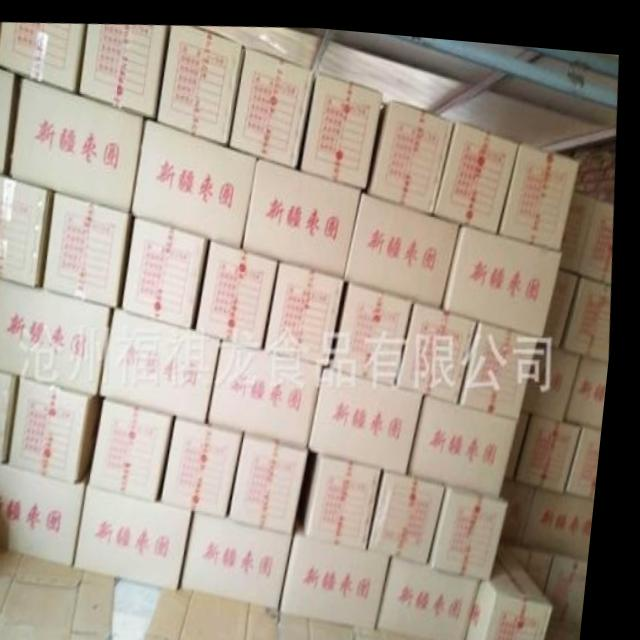box: (13, 75, 146, 210), (134, 116, 260, 242), (246, 153, 365, 271), (0, 277, 118, 393), (107, 306, 228, 419), (349, 184, 465, 299), (446, 215, 566, 326), (316, 360, 431, 466), (216, 335, 330, 441), (85, 482, 203, 584), (291, 514, 402, 620), (417, 384, 526, 485), (192, 507, 303, 603), (229, 42, 315, 162), (158, 22, 245, 140), (48, 189, 135, 304), (0, 460, 98, 562), (16, 376, 110, 480), (301, 66, 385, 182), (127, 213, 213, 326), (370, 93, 455, 205), (477, 535, 566, 640), (437, 112, 521, 223), (390, 547, 490, 637), (202, 234, 282, 343), (98, 396, 184, 497), (501, 133, 582, 239), (78, 22, 168, 116), (337, 273, 419, 376), (271, 254, 350, 360), (170, 413, 252, 513), (403, 292, 484, 393), (238, 427, 318, 528), (465, 311, 544, 408), (440, 475, 517, 571), (314, 446, 390, 542), (379, 461, 454, 555), (0, 174, 56, 285), (0, 22, 87, 90), (532, 477, 604, 549), (524, 401, 588, 480), (567, 263, 616, 352), (531, 331, 587, 408), (572, 343, 615, 419), (556, 542, 599, 612), (547, 258, 584, 335), (584, 188, 617, 273), (565, 181, 599, 259), (574, 413, 609, 488), (509, 468, 545, 538), (0, 369, 24, 461), (519, 537, 564, 581), (0, 67, 16, 176)
